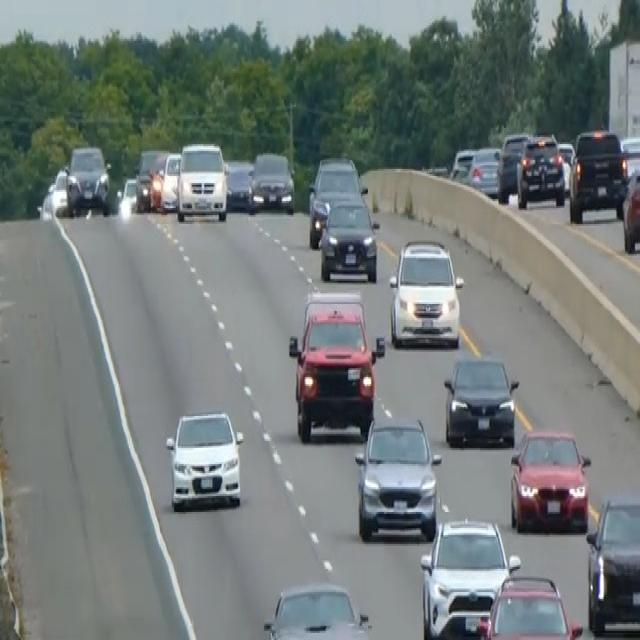car: (419, 516, 520, 638), (353, 412, 441, 542), (509, 427, 591, 533), (388, 236, 464, 348), (164, 407, 244, 512), (585, 494, 639, 633), (443, 352, 519, 448), (477, 571, 583, 638), (262, 580, 372, 638), (307, 153, 367, 247), (318, 194, 379, 282), (516, 132, 565, 208), (65, 142, 111, 215), (249, 150, 295, 213), (310, 153, 362, 201), (496, 130, 530, 201), (134, 146, 166, 210), (467, 144, 501, 197), (620, 165, 639, 252), (224, 156, 253, 210), (159, 151, 181, 212), (149, 151, 169, 210), (50, 165, 70, 217), (556, 139, 575, 192), (449, 146, 475, 183), (119, 176, 139, 213)
jeep: (287, 288, 384, 443)
lorry: (568, 126, 627, 224)
minivan: (175, 139, 228, 222)
